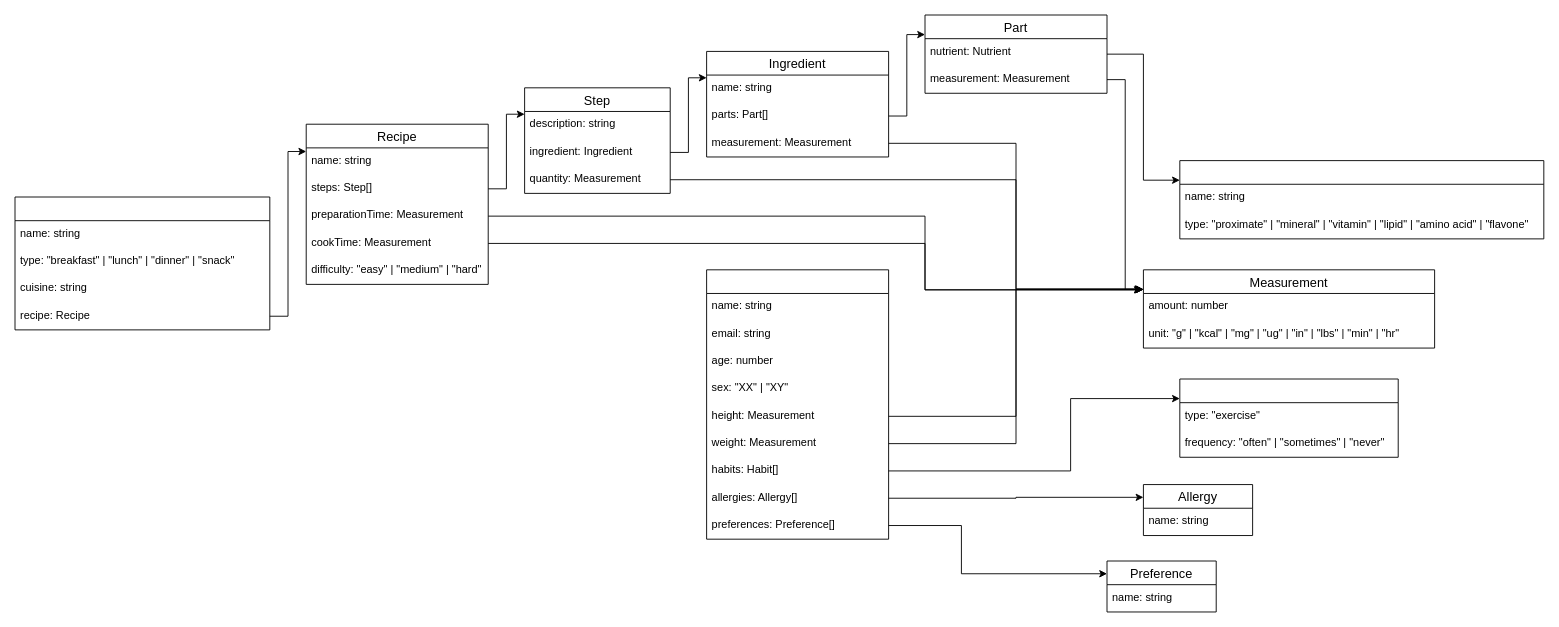
This 1559x627 diagram has some shape labels left out. The box of each missing label's shape, as (x1, y1, x2, y2) in pixels:
Habit: (1179, 378, 1398, 457)
Meal: (14, 196, 270, 330)
Nutrient: (1179, 160, 1544, 239)
User: (706, 269, 889, 539)
